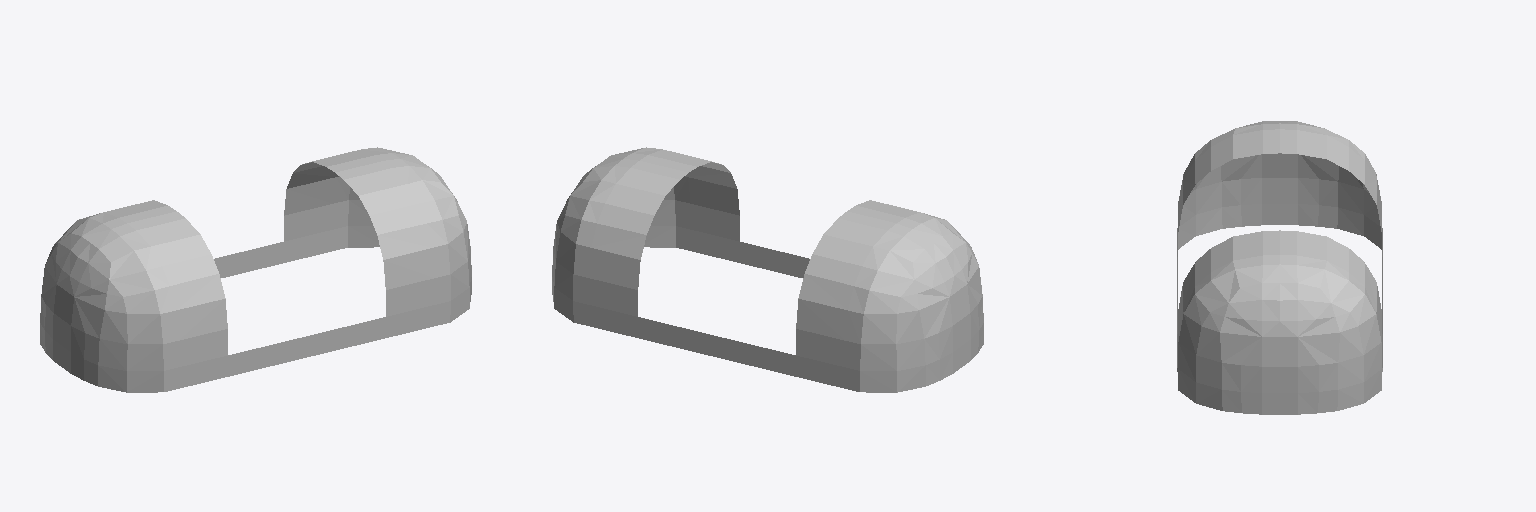
File: hopo_bottom.obj
3 renders of one model, left to right at view 1: azimuth 30°, elevation 25°; view 2: azimuth 150°, elevation 25°; view 3: azimuth 270°, elevation 25°, orthographic.
Parts seen in each view (by area): view 1: Notes.001; view 2: Notes.001; view 3: Notes.001.
Boxes of the visible parts, <box> form: Notes.001: <box>40,147,471,392</box>; Notes.001: <box>552,147,983,392</box>; Notes.001: <box>1177,121,1382,414</box>.
Bounding box in the file's own units: 0.546 × 0.1723 × 0.2501.